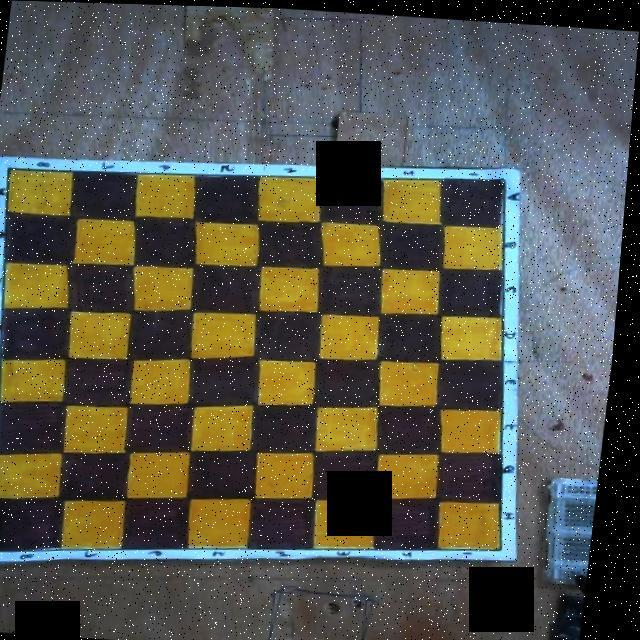chess-table-corners: (502, 172, 509, 178), (8, 165, 16, 170), (505, 544, 512, 548), (0, 548, 4, 551)
